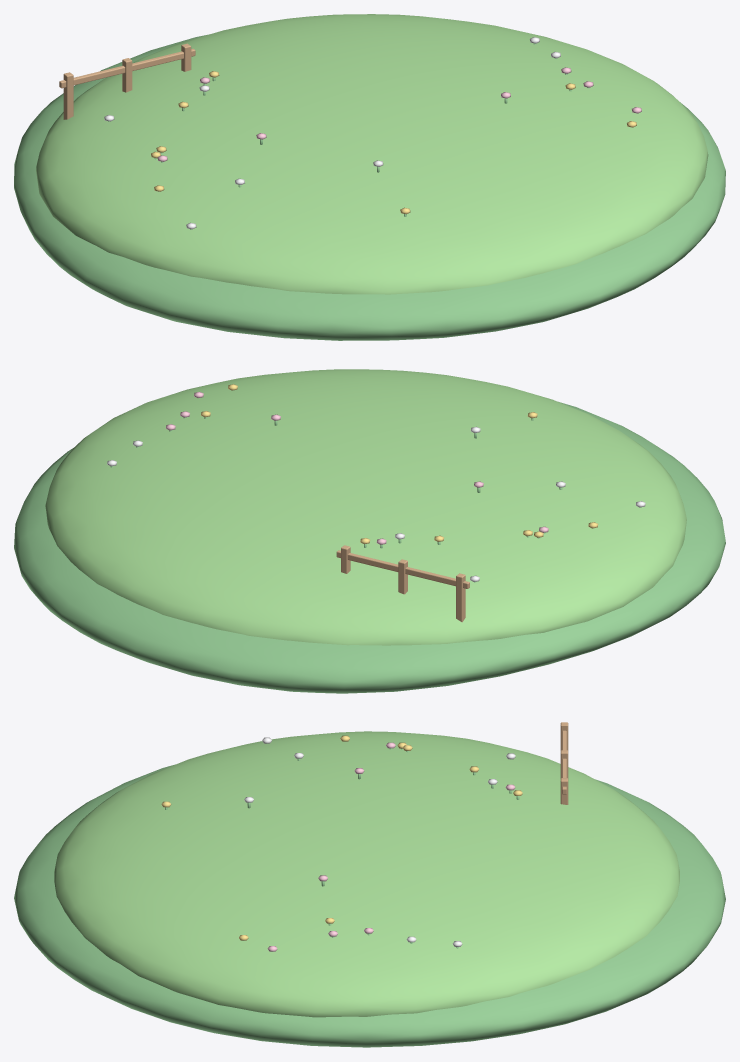
The model's file is creator_stage.glb.
3 views of the same model, one above another, from view 1: azimuth 30°, elevation 25°; view 2: azimuth 150°, elevation 25°; view 3: azimuth 270°, elevation 25° (orthographic). The views are drawn at different scales.
Visible parts, largest first — view 1: creator_stage; view 2: creator_stage; view 3: creator_stage.
Boxes of the visible parts, x1,y1,x2,y2 form: creator_stage: (14, 14, 725, 340); creator_stage: (14, 369, 725, 693); creator_stage: (14, 722, 725, 1047).
Size of the model in its own units: 7.4 by 1.44 by 7.56.
